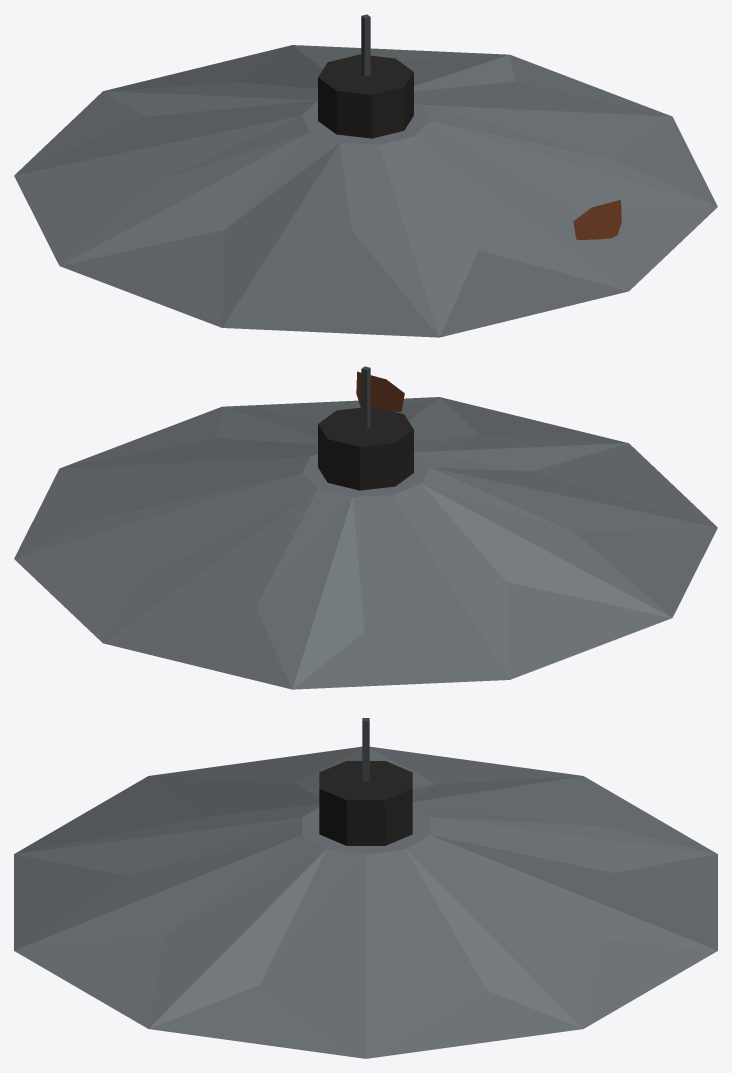
The model's file is grow_lamp_slabaya_idle.glb.
The picture shows the model from 3 angles, top to bottom: view 1: azimuth 30°, elevation 25°; view 2: azimuth 150°, elevation 25°; view 3: azimuth 270°, elevation 25°; orthographic projection. The views are drawn at different scales.
Parts seen in each view (by area): view 1: grow_lamp_slabaya_idle; view 2: grow_lamp_slabaya_idle; view 3: grow_lamp_slabaya_idle.
Boxes of the visible parts, x1,y1,x2,y2 form: grow_lamp_slabaya_idle: (14, 14, 717, 337); grow_lamp_slabaya_idle: (14, 366, 717, 689); grow_lamp_slabaya_idle: (14, 718, 717, 1058).
Bounding box in the file's own units: 0.44 × 0.15 × 0.4185.
Materials: 2 (2 with a texture image).
